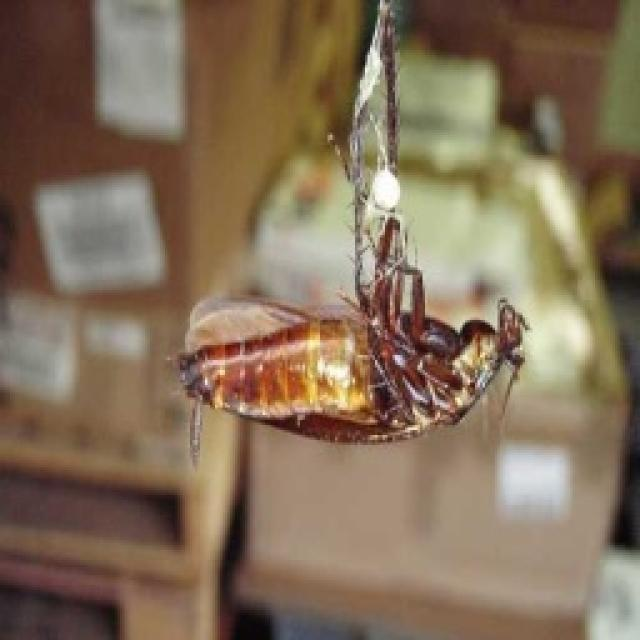cockroach: (172, 3, 535, 465)
